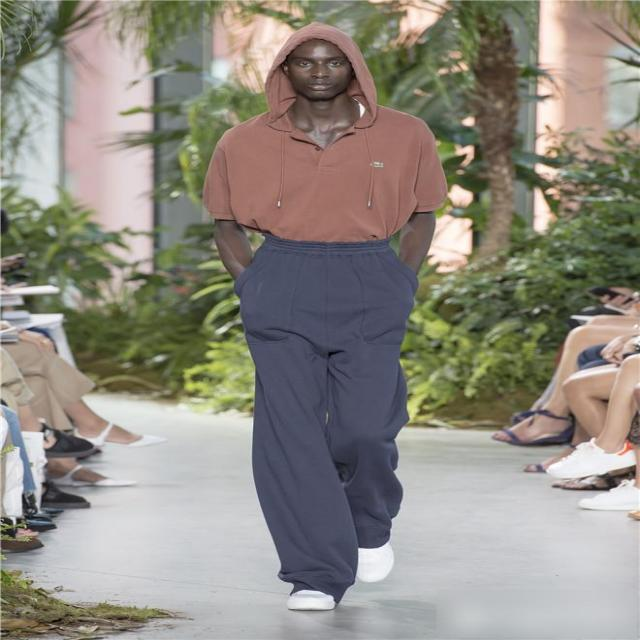Manusia: (158, 3, 472, 620)
